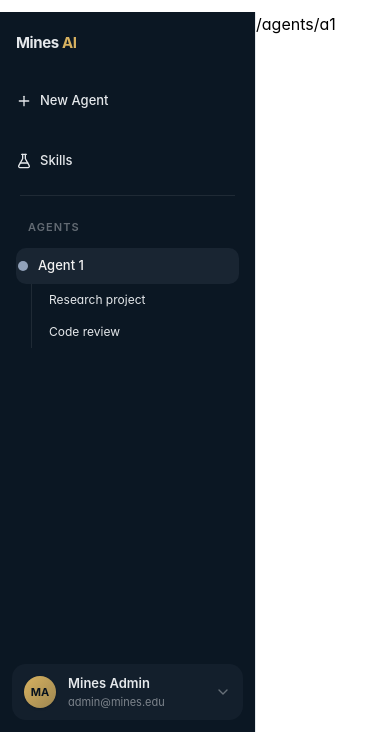
Test: AppSidebar › clicking a conversation navigates to its session page
Click the session link
Click the link "Research project" at (97, 299), box x1=49 y1=292 x2=145 y2=307
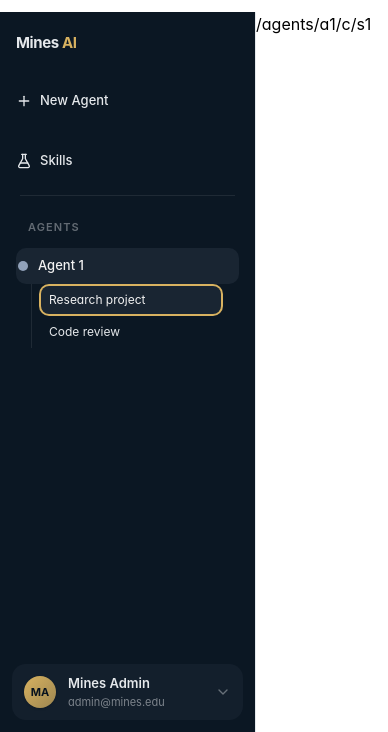
Result: the text with test id "location" reads "/agents/a1/c/s1" at x1=256 y1=14 x2=371 y2=34
